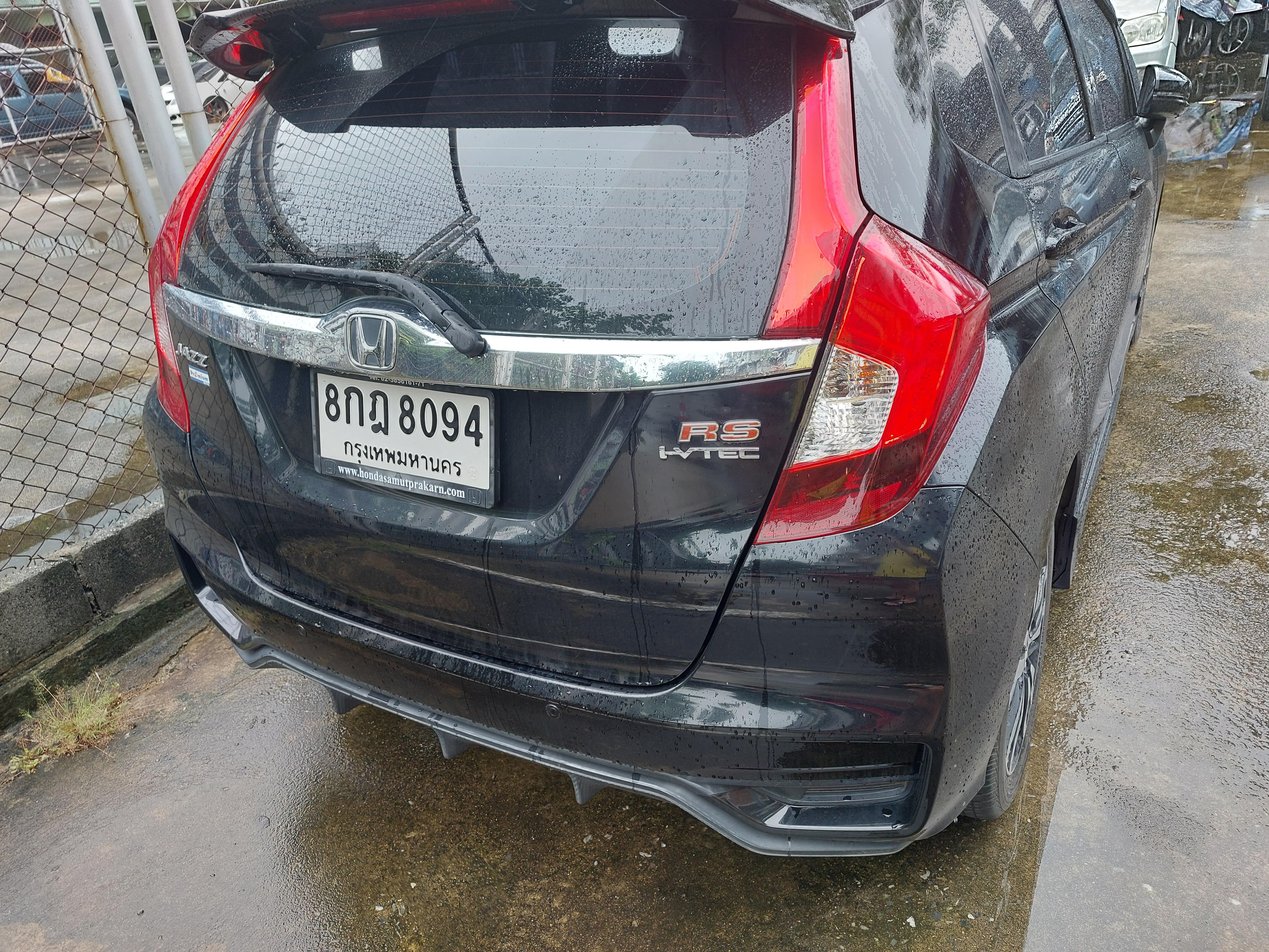license-plate: (307, 360, 501, 515)
